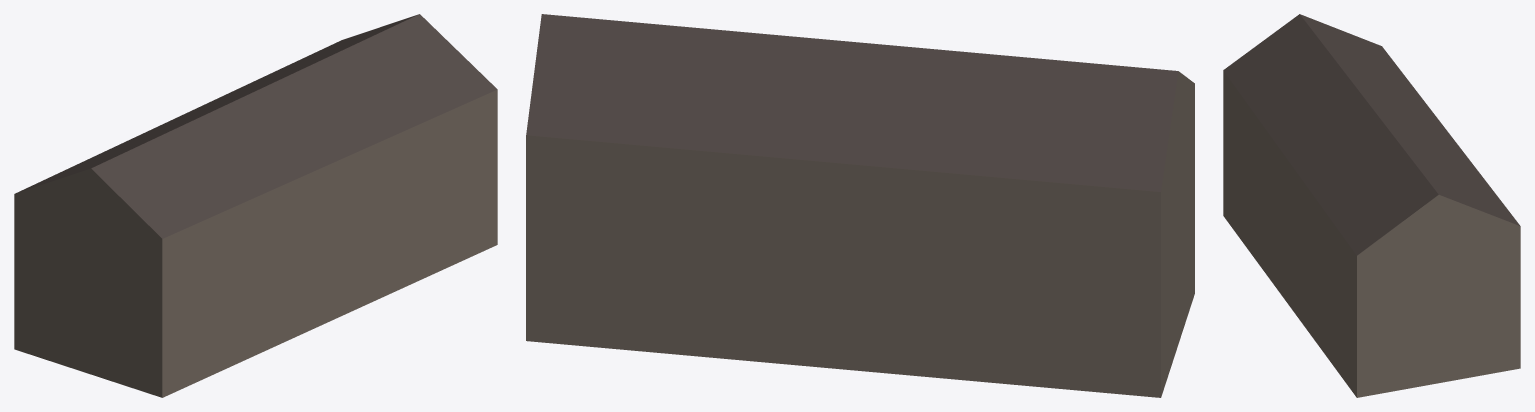
3 views of the same model, side by side, from view 1: azimuth 30°, elevation 25°; view 2: azimuth 150°, elevation 25°; view 3: azimuth 270°, elevation 25° (orthographic). The views are drawn at different scales.
Visible parts, largest first — view 1: HP-w1512914143; view 2: HP-w1512914143; view 3: HP-w1512914143.
Boxes of the visible parts, bbox=[...] form: HP-w1512914143: bbox=[14, 14, 497, 397]; HP-w1512914143: bbox=[526, 14, 1194, 397]; HP-w1512914143: bbox=[1223, 14, 1520, 397].
Size of the model in its own units: 28.46 by 11.94 by 17.07.
